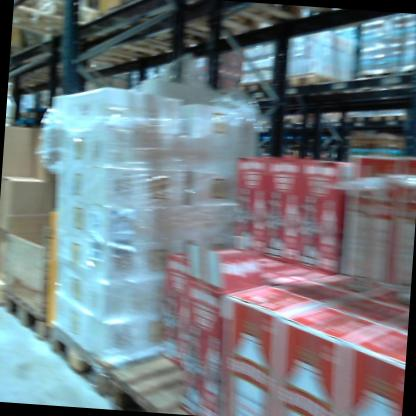pallet: (31, 306, 183, 403), (107, 343, 228, 415), (14, 0, 111, 42), (0, 288, 53, 341), (277, 72, 345, 104), (234, 74, 282, 100), (373, 104, 411, 131), (342, 105, 379, 128), (0, 275, 10, 305)
